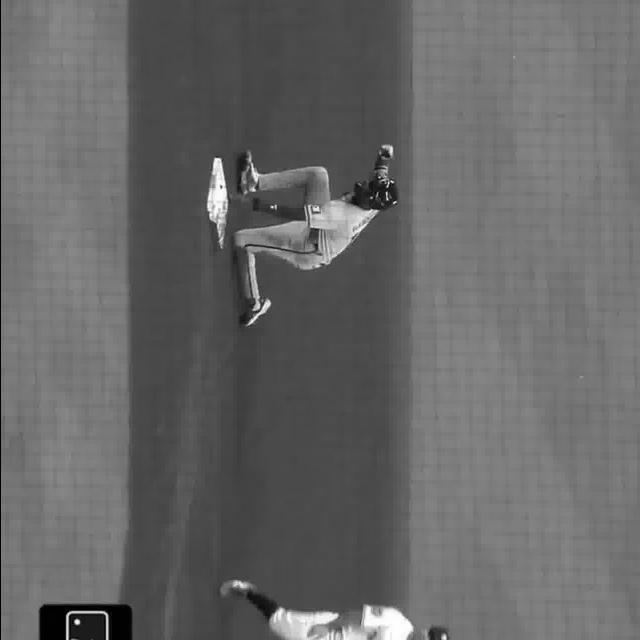base: (206, 153, 227, 255)
shoe: (235, 148, 258, 198), (240, 294, 272, 328), (214, 580, 254, 596)
